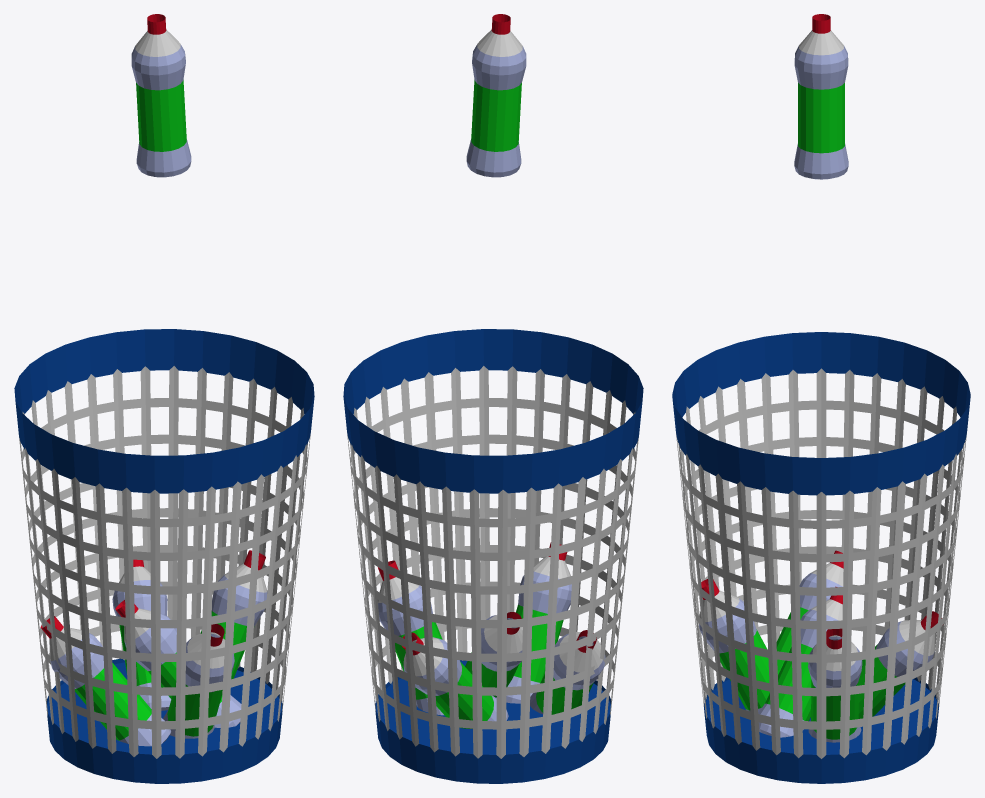
File: DustbinWithCan_000007.obj
3 views of the same model, side by side, from view 1: azimuth 30°, elevation 25°; view 2: azimuth 150°, elevation 25°; view 3: azimuth 270°, elevation 25° (orthographic).
Parts seen in each view (by area): view 1: Cylinder, Plane.006, Plane.005, Plane.001, Plane.004, Plane.003, Plane.002; view 2: Cylinder, Plane.006, Plane.001, Plane.002, Plane.005, Plane.003, Plane.004; view 3: Cylinder, Plane.006, Plane.001, Plane.004, Plane.003, Plane.002, Plane.005.
Part boxes in pixels (bbox=[...]): Cylinder: bbox=[14, 329, 314, 783]; Plane.006: bbox=[131, 14, 191, 177]; Plane.005: bbox=[40, 616, 170, 746]; Plane.001: bbox=[163, 624, 234, 738]; Plane.004: bbox=[115, 600, 241, 727]; Plane.003: bbox=[200, 550, 267, 679]; Plane.002: bbox=[112, 559, 171, 710]; Cylinder: bbox=[343, 329, 643, 783]; Plane.006: bbox=[466, 14, 526, 177]; Plane.001: bbox=[496, 542, 571, 703]; Plane.002: bbox=[402, 632, 508, 728]; Plane.005: bbox=[530, 630, 605, 714]; Plane.003: bbox=[377, 560, 443, 715]; Plane.004: bbox=[465, 612, 522, 697]; Cylinder: bbox=[672, 332, 970, 783]; Plane.006: bbox=[794, 14, 848, 179]; Plane.001: bbox=[699, 579, 779, 712]; Plane.004: bbox=[758, 586, 842, 737]; Plane.003: bbox=[808, 628, 862, 742]; Plane.002: bbox=[858, 611, 943, 718]; Plane.005: bbox=[776, 550, 843, 671].
Bounding box in the file's own units: 2.6 × 6.87 × 2.6.
